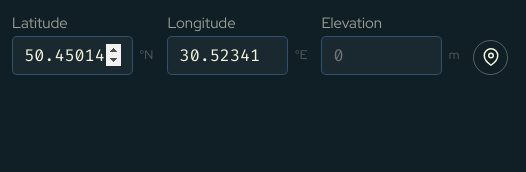
Scenario: LocationInput › fills in the coordinates the browser reports
Click the button named "use my location" at {"x": 491, "y": 57}, box [474,40,508,75]
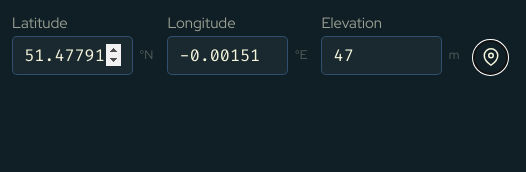
Check: the number field labelled "Latitude °N" holds "51.47791", box [12,36,133,75]
Check: the number field labelled "Longitude °E" holds "-0.00151", box [167,36,288,75]
Check: the number field labelled "Elevation m" holds "47", box [321,36,442,75]
